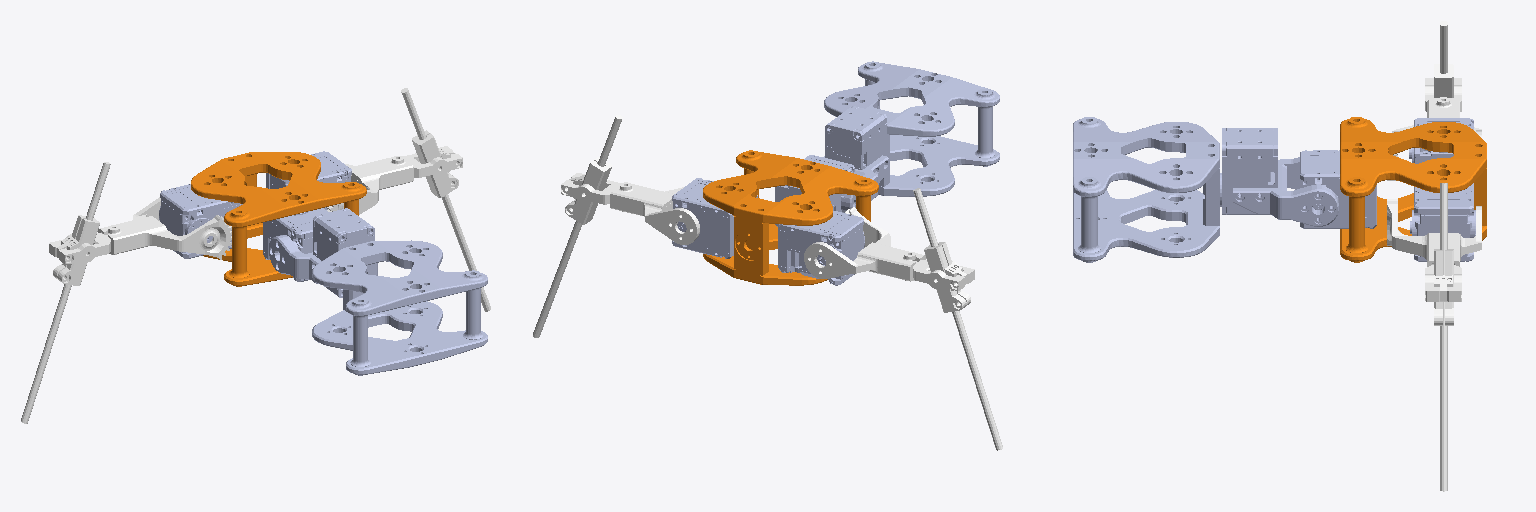
robot.urdf — unit_main_for urdf.SLDASM:
<?xml version="1.0" encoding="utf-8"?>
<!-- This URDF was automatically created by SolidWorks to URDF Exporter! Originally created by Stephen Brawner (brawner@gmail.com) 
     Commit Version: 1.6.0-4-g7f85cfe  Build Version: 1.6.7995.38578
     For more information, please see http://wiki.ros.org/sw_urdf_exporter -->
<robot
  name="unit_main_for urdf.SLDASM">
  <link
    name="Chasis1">
    <inertial>
      <origin
        xyz="-3.49333740741467E-09 -0.023000003893861 0.0153118131896663"
        rpy="0 0 0" />
      <mass
        value="0.0822549887870204" />
      <inertia
        ixx="5.22543924761398E-05"
        ixy="-4.47367741219368E-11"
        ixz="-4.31139643281512E-14"
        iyy="9.49198617781208E-05"
        iyz="-1.186664212577E-13"
        izz="4.6341392529109E-05" />
    </inertial>
    <visual>
      <origin
        xyz="0 0 0"
        rpy="0 0 0" />
      <geometry>
        <mesh
          filename="package://unit_main_for urdf.SLDASM/meshes/Chasis1.STL" />
      </geometry>
      <material
        name="">
        <color
          rgba="1 0.596078431372549 0.137254901960784 1" />
      </material>
    </visual>
    <collision>
      <origin
        xyz="0 0 0"
        rpy="0 0 0" />
      <geometry>
        <mesh
          filename="package://unit_main_for urdf.SLDASM/meshes/Chasis1.STL" />
      </geometry>
    </collision>
  </link>
  <link
    name="ShoulderMotor1_R">
    <inertial>
      <origin
        xyz="-0.0120022089817768 -0.0204040287497491 0.000443265877616639"
        rpy="0 0 0" />
      <mass
        value="0.0569176277607129" />
      <inertia
        ixx="1.02303468442476E-05"
        ixy="-2.09020395116953E-09"
        ixz="-1.74773672918662E-08"
        iyy="1.43924882902027E-05"
        iyz="3.43997650075875E-07"
        izz="1.43924316353895E-05" />
    </inertial>
    <visual>
      <origin
        xyz="0 0 0"
        rpy="0 0 0" />
      <geometry>
        <mesh
          filename="package://unit_main_for urdf.SLDASM/meshes/ShoulderMotor1_R.STL" />
      </geometry>
      <material
        name="">
        <color
          rgba="0.792156862745098 0.819607843137255 0.933333333333333 1" />
      </material>
    </visual>
    <collision>
      <origin
        xyz="0 0 0"
        rpy="0 0 0" />
      <geometry>
        <mesh
          filename="package://unit_main_for urdf.SLDASM/meshes/ShoulderMotor1_R.STL" />
      </geometry>
    </collision>
  </link>
  <joint
    name="Shoulder1_R"
    type="revolute">
    <origin
      xyz="0.028978 0.0048688 -0.0021"
      rpy="1.5708 0 -3.1372" />
    <parent
      link="Chasis1" />
    <child
      link="ShoulderMotor1_R" />
    <axis
      xyz="0 1 0" />
    <limit
      lower="0"
      upper="0"
      effort="0"
      velocity="0" />
  </joint>
  <link
    name="Leg1_R">
    <inertial>
      <origin
        xyz="-0.00184985798128927 -0.0040122423711912 0.0523936763240532"
        rpy="0 0 0" />
      <mass
        value="0.0299419971153301" />
      <inertia
        ixx="2.06646034600082E-05"
        ixy="-9.05824817372947E-10"
        ixz="-1.24902975320456E-06"
        iyy="1.49498632717337E-05"
        iyz="3.62891699731154E-06"
        izz="1.49567689907672E-05" />
    </inertial>
    <visual>
      <origin
        xyz="0 0 0"
        rpy="0 0 0" />
      <geometry>
        <mesh
          filename="package://unit_main_for urdf.SLDASM/meshes/Leg1_R.STL" />
      </geometry>
      <material
        name="">
        <color
          rgba="1 1 1 1" />
      </material>
    </visual>
    <collision>
      <origin
        xyz="0 0 0"
        rpy="0 0 0" />
      <geometry>
        <mesh
          filename="package://unit_main_for urdf.SLDASM/meshes/Leg1_R.STL" />
      </geometry>
    </collision>
  </link>
  <joint
    name="Leg1_R"
    type="revolute">
    <origin
      xyz="-0.024 -0.0209 -0.00010521"
      rpy="-3.1416 -1.5664 3.1416" />
    <parent
      link="ShoulderMotor1_R" />
    <child
      link="Leg1_R" />
    <axis
      xyz="1 0 0" />
    <limit
      lower="0"
      upper="0"
      effort="0"
      velocity="0" />
  </joint>
  <link
    name="ShoulderMotor1_L">
    <inertial>
      <origin
        xyz="-0.0120022089817768 -0.020404028749749 0.000443265877616623"
        rpy="0 0 0" />
      <mass
        value="0.0569176277607128" />
      <inertia
        ixx="1.02303468442476E-05"
        ixy="-2.09020395116674E-09"
        ixz="-1.74773672918661E-08"
        iyy="1.43924882902027E-05"
        iyz="3.43997650075874E-07"
        izz="1.43924316353894E-05" />
    </inertial>
    <visual>
      <origin
        xyz="0 0 0"
        rpy="0 0 0" />
      <geometry>
        <mesh
          filename="package://unit_main_for urdf.SLDASM/meshes/ShoulderMotor1_L.STL" />
      </geometry>
      <material
        name="">
        <color
          rgba="0.792156862745098 0.819607843137255 0.933333333333333 1" />
      </material>
    </visual>
    <collision>
      <origin
        xyz="0 0 0"
        rpy="0 0 0" />
      <geometry>
        <mesh
          filename="package://unit_main_for urdf.SLDASM/meshes/ShoulderMotor1_L.STL" />
      </geometry>
    </collision>
  </link>
  <joint
    name="Shoulder1_L"
    type="revolute">
    <origin
      xyz="-0.029022 0.0048688 -0.0021"
      rpy="1.5708 0 0.0043839" />
    <parent
      link="Chasis1" />
    <child
      link="ShoulderMotor1_L" />
    <axis
      xyz="0 1 0" />
    <limit
      lower="0"
      upper="0"
      effort="0"
      velocity="0" />
  </joint>
  <link
    name="Leg1_L">
    <inertial>
      <origin
        xyz="0.00183497417950078 0.0040122388304664 -0.0523936608603332"
        rpy="0 0 0" />
      <mass
        value="0.0299420004088521" />
      <inertia
        ixx="2.06646092046242E-05"
        ixy="9.00109355049291E-10"
        ixz="-1.25962604911903E-06"
        iyy="1.49498717495408E-05"
        iyz="3.62891720691267E-06"
        izz="1.49567717560704E-05" />
    </inertial>
    <visual>
      <origin
        xyz="0 0 0"
        rpy="0 0 0" />
      <geometry>
        <mesh
          filename="package://unit_main_for urdf.SLDASM/meshes/Leg1_L.STL" />
      </geometry>
      <material
        name="">
        <color
          rgba="1 1 1 1" />
      </material>
    </visual>
    <collision>
      <origin
        xyz="0 0 0"
        rpy="0 0 0" />
      <geometry>
        <mesh
          filename="package://unit_main_for urdf.SLDASM/meshes/Leg1_L.STL" />
      </geometry>
    </collision>
  </link>
  <joint
    name="Leg1_L"
    type="revolute">
    <origin
      xyz="-0.024 -0.0209 -0.00010521"
      rpy="0 -1.5664 3.1416" />
    <parent
      link="ShoulderMotor1_L" />
    <child
      link="Leg1_L" />
    <axis
      xyz="1 0 0" />
    <limit
      lower="0"
      upper="0"
      effort="0"
      velocity="0" />
  </joint>
  <link
    name="LinkMotor1_PnY">
    <inertial>
      <origin
        xyz="-0.0120022089817767 -0.020404028749749 0.000443265877616744"
        rpy="0 0 0" />
      <mass
        value="0.0569176277607128" />
      <inertia
        ixx="1.02303468442476E-05"
        ixy="-2.09020395116729E-09"
        ixz="-1.74773672918363E-08"
        iyy="1.43924882902027E-05"
        iyz="3.43997650075875E-07"
        izz="1.43924316353894E-05" />
    </inertial>
    <visual>
      <origin
        xyz="0 0 0"
        rpy="0 0 0" />
      <geometry>
        <mesh
          filename="package://unit_main_for urdf.SLDASM/meshes/LinkMotor1_PnY.STL" />
      </geometry>
      <material
        name="">
        <color
          rgba="0.792156862745098 0.819607843137255 0.933333333333333 1" />
      </material>
    </visual>
    <collision>
      <origin
        xyz="0 0 0"
        rpy="0 0 0" />
      <geometry>
        <mesh
          filename="package://unit_main_for urdf.SLDASM/meshes/LinkMotor1_PnY.STL" />
      </geometry>
    </collision>
  </link>
  <joint
    name="Link1_Y"
    type="revolute">
    <origin
      xyz="-2.1623E-05 -0.046131 -0.0021"
      rpy="1.5708 0 1.5752" />
    <parent
      link="Chasis1" />
    <child
      link="LinkMotor1_PnY" />
    <axis
      xyz="0 1 0" />
    <limit
      lower="0"
      upper="0"
      effort="0"
      velocity="0" />
  </joint>
  <link
    name="LinkMotor1_R">
    <inertial>
      <origin
        xyz="-8.115030942178E-06 0.00865029421868163 0.0336589010462912"
        rpy="0 0 0" />
      <mass
        value="0.0592286702139213" />
      <inertia
        ixx="1.49197855089342E-05"
        ixy="4.40820066555061E-09"
        ixz="-5.23306093471459E-09"
        iyy="1.64849639689959E-05"
        iyz="1.59453552023042E-07"
        izz="1.7087820132961E-05" />
    </inertial>
    <visual>
      <origin
        xyz="0 0 0"
        rpy="0 0 0" />
      <geometry>
        <mesh
          filename="package://unit_main_for urdf.SLDASM/meshes/LinkMotor1_R.STL" />
      </geometry>
      <material
        name="">
        <color
          rgba="0.792156862745098 0.819607843137255 0.933333333333333 1" />
      </material>
    </visual>
    <collision>
      <origin
        xyz="0 0 0"
        rpy="0 0 0" />
      <geometry>
        <mesh
          filename="package://unit_main_for urdf.SLDASM/meshes/LinkMotor1_R.STL" />
      </geometry>
    </collision>
  </link>
  <joint
    name="Link1_P"
    type="revolute">
    <origin
      xyz="-0.025 -0.0209 -0.0001096"
      rpy="-3.1416 -1.5664 3.1416" />
    <parent
      link="LinkMotor1_PnY" />
    <child
      link="LinkMotor1_R" />
    <axis
      xyz="1 0 0" />
    <limit
      lower="0"
      upper="0"
      effort="0"
      velocity="0" />
  </joint>
  <link
    name="Chasis2">
    <inertial>
      <origin
        xyz="-3.49908535194076E-09 -3.89641729992007E-09 0.0463077939408685"
        rpy="0 0 0" />
      <mass
        value="0.082254988760721" />
      <inertia
        ixx="5.22543924742276E-05"
        ixy="-4.47357160285977E-11"
        ixz="-4.35005151316264E-14"
        iyy="9.49198617774598E-05"
        iyz="-1.23151703083669E-13"
        izz="4.63413925267726E-05" />
    </inertial>
    <visual>
      <origin
        xyz="0 0 0"
        rpy="0 0 0" />
      <geometry>
        <mesh
          filename="package://unit_main_for urdf.SLDASM/meshes/Chasis2.STL" />
      </geometry>
      <material
        name="">
        <color
          rgba="0.792156862745098 0.819607843137255 0.933333333333333 1" />
      </material>
    </visual>
    <collision>
      <origin
        xyz="0 0 0"
        rpy="0 0 0" />
      <geometry>
        <mesh
          filename="package://unit_main_for urdf.SLDASM/meshes/Chasis2.STL" />
      </geometry>
    </collision>
  </link>
  <joint
    name="Link1_R"
    type="revolute">
    <origin
      xyz="0 0 0.058"
      rpy="0 0 3.1416" />
    <parent
      link="LinkMotor1_R" />
    <child
      link="Chasis2" />
    <axis
      xyz="0 0 1" />
    <limit
      lower="0"
      upper="0"
      effort="0"
      velocity="0" />
  </joint>
</robot>

--- Facts derived from the render (not from the file) ---
3 views of the same robot in one strip: view 1: azimuth 30°, elevation 25°; view 2: azimuth 150°, elevation 25°; view 3: azimuth 270°, elevation 25° (orthographic).
Model unit_main_for urdf.SLDASM with 8 links and 7 joints (7 revolute), rooted at Chasis1, posed every joint at zero.
Visible links, largest first — view 1: Chasis2, Chasis1, Leg1_L, Leg1_R, LinkMotor1_R, ShoulderMotor1_L, LinkMotor1_PnY, ShoulderMotor1_R; view 2: Chasis2, Chasis1, Leg1_L, Leg1_R, LinkMotor1_R, ShoulderMotor1_L, ShoulderMotor1_R, LinkMotor1_PnY; view 3: Chasis2, Chasis1, LinkMotor1_R, Leg1_R, ShoulderMotor1_R, LinkMotor1_PnY, Leg1_L, ShoulderMotor1_L.
Link boxes in pixels (x1,y1,x2,y2): Chasis2: [312, 240, 487, 375]; Chasis1: [191, 152, 366, 286]; Leg1_L: [21, 162, 231, 423]; Leg1_R: [326, 88, 490, 311]; LinkMotor1_R: [269, 208, 374, 297]; ShoulderMotor1_L: [159, 184, 242, 258]; LinkMotor1_PnY: [263, 208, 328, 281]; ShoulderMotor1_R: [266, 151, 351, 209]; Chasis2: [824, 61, 999, 196]; Chasis1: [703, 150, 878, 285]; Leg1_L: [804, 188, 1002, 450]; Leg1_R: [533, 115, 699, 337]; LinkMotor1_R: [823, 106, 888, 212]; ShoulderMotor1_L: [778, 211, 864, 285]; ShoulderMotor1_R: [672, 178, 757, 258]; LinkMotor1_PnY: [775, 155, 854, 226]; Chasis2: [1073, 117, 1219, 262]; Chasis1: [1340, 117, 1486, 262]; LinkMotor1_R: [1220, 128, 1338, 226]; Leg1_R: [1387, 183, 1481, 491]; ShoulderMotor1_R: [1410, 183, 1475, 261]; LinkMotor1_PnY: [1300, 150, 1376, 228]; Leg1_L: [1387, 21, 1481, 180]; ShoulderMotor1_L: [1409, 118, 1473, 163].
Size in the robot's own frame: 0.3574 by 0.248 by 0.1756 metres.
Meshes: 8 distinct files referenced, 8 mesh visuals loaded (8 binary STL).
